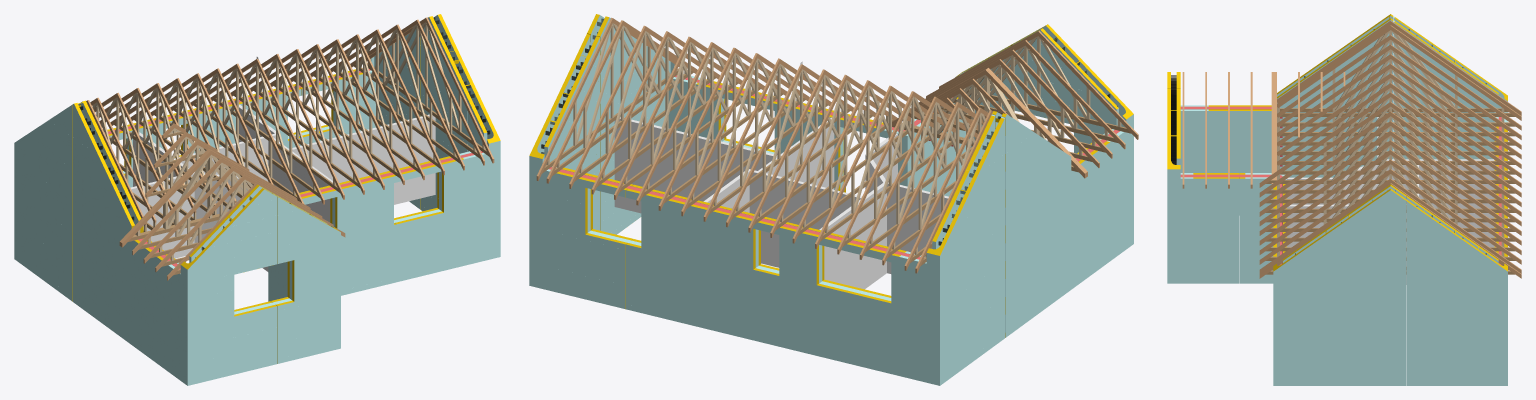
Rendered from Bungalow.glb.
The picture shows the model from 3 angles, left to right: view 1: azimuth 30°, elevation 25°; view 2: azimuth 150°, elevation 25°; view 3: azimuth 270°, elevation 25°; orthographic projection. The views are drawn at different scales.
Visible parts, largest first — view 1: Geom3D (×80), Geom3D_TLSID46745, Geom3D_TLSID46555, Geom3D_TLSID46683, Geom3D_TLSID46635, Geom3D_TLSID46599, Geom3D_Difference_TLSID453036, Geom3D_Difference_TLSID454871, Geom3D_Difference_TLSID456339, Geom3D_Difference_TLSID453403, Geom3D_Difference_TLSID453770, Geom3D_Difference_TLSID454137 (+14 smaller); view 2: Geom3D (×80), Geom3D_TLSID46745, Geom3D_TLSID46635, Geom3D_TLSID46599, Geom3D_TLSID46555, Geom3D_TLSID46683, Geom3D_Difference_TLSID454136, Geom3D_Difference_TLSID455971, Geom3D_Difference_TLSID457824, Geom3D_Difference_TLSID453402, Geom3D_Difference_TLSID407156, Geom3D_Difference_TLSID458943 (+18 smaller); view 3: Geom3D (×87), Geom3D_TLSID46599, Geom3D_Difference_TLSID453770, Geom3D_Difference_TLSID454136, Geom3D_Difference_TLSID454503, Geom3D_Difference_TLSID454504, Geom3D_Difference_TLSID454870, Geom3D_Difference_TLSID454871, Geom3D_Difference_TLSID455605, Geom3D_Difference_TLSID458570, Geom3D_Difference_TLSID458943, Geom3D_Difference_TLSID453035 (+35 smaller).
Part boxes in pixels (x1,y1,x2,y2): Geom3D (×80): (27,62,500,375); Geom3D_TLSID46745: (292,114,435,204); Geom3D_TLSID46555: (130,172,268,271); Geom3D_TLSID46683: (268,137,332,222); Geom3D_TLSID46635: (179,104,279,181); Geom3D_TLSID46599: (133,132,188,186); Geom3D_Difference_TLSID453036: (256,59,324,204); Geom3D_Difference_TLSID454871: (356,34,424,180); Geom3D_Difference_TLSID456339: (426,17,494,163); Geom3D_Difference_TLSID453403: (276,54,344,199); Geom3D_Difference_TLSID453770: (296,49,364,194); Geom3D_Difference_TLSID454137: (316,44,384,189); Geom3D (×80): (529,59,1119,380); Geom3D_TLSID46745: (614,117,777,213); Geom3D_TLSID46635: (703,169,861,267); Geom3D_TLSID46599: (819,183,886,289); Geom3D_TLSID46555: (865,133,948,273); Geom3D_TLSID46683: (758,117,834,189); Geom3D_Difference_TLSID454136: (658,47,735,210); Geom3D_Difference_TLSID455971: (546,20,623,183); Geom3D_Difference_TLSID457824: (837,91,913,254); Geom3D_Difference_TLSID453402: (703,58,779,221); Geom3D_Difference_TLSID407156: (748,69,824,232); Geom3D_Difference_TLSID458943: (904,107,980,270); Geom3D (×87): (1167,53,1515,385); Geom3D_TLSID46599: (1382,159,1494,208); Geom3D_Difference_TLSID453770: (1259,121,1390,216); Geom3D_Difference_TLSID454136: (1390,131,1521,226); Geom3D_Difference_TLSID454503: (1390,140,1521,235); Geom3D_Difference_TLSID454504: (1259,140,1390,235); Geom3D_Difference_TLSID454870: (1390,150,1521,245); Geom3D_Difference_TLSID454871: (1259,150,1390,245); Geom3D_Difference_TLSID455605: (1259,169,1390,264); Geom3D_Difference_TLSID458570: (1390,35,1521,130); Geom3D_Difference_TLSID458943: (1390,25,1521,120); Geom3D_Difference_TLSID453035: (1390,102,1521,197).
Bounding box in the file's own units: 11.36 × 5.76 × 9.36.
